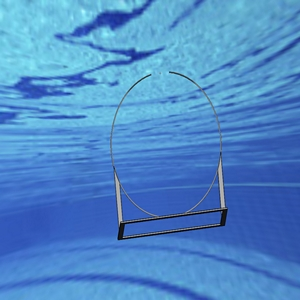circle: (108, 69, 226, 240)
